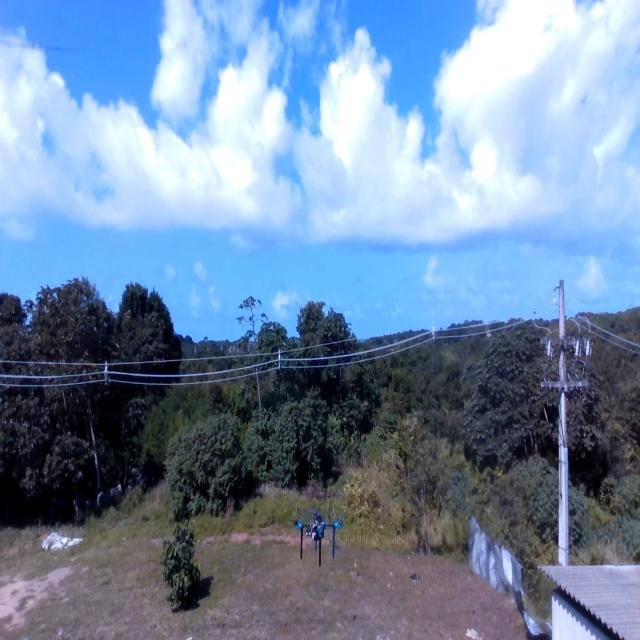-uav-: (289, 510, 344, 573)
